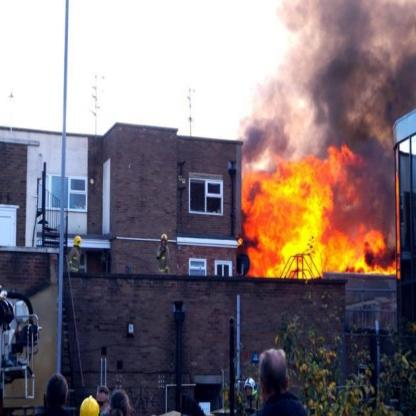fire: (238, 156, 402, 281)
smoke: (309, 25, 397, 132)
